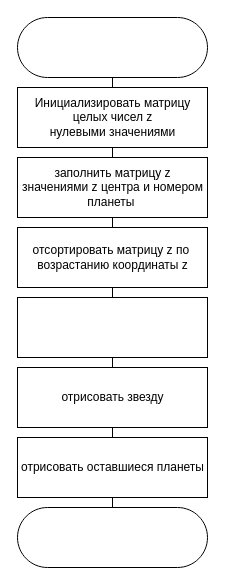
This 225x585 diagram has some shape labels left out. Here are the shapes that lost their labels. From the top down, the centre of each, then its label:
At (x=112, y=47): "Начало".
At (x=112, y=327): "отрисовать планеты, координата z которых меньше z звезды".
At (x=112, y=537): "Конец".
